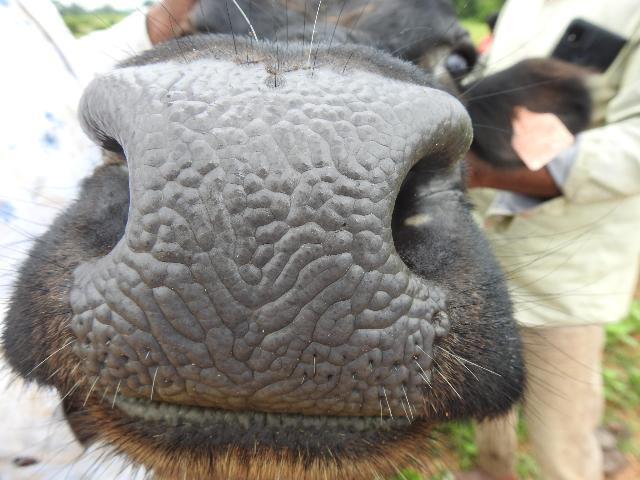Muzzle: (94, 70, 424, 410)
